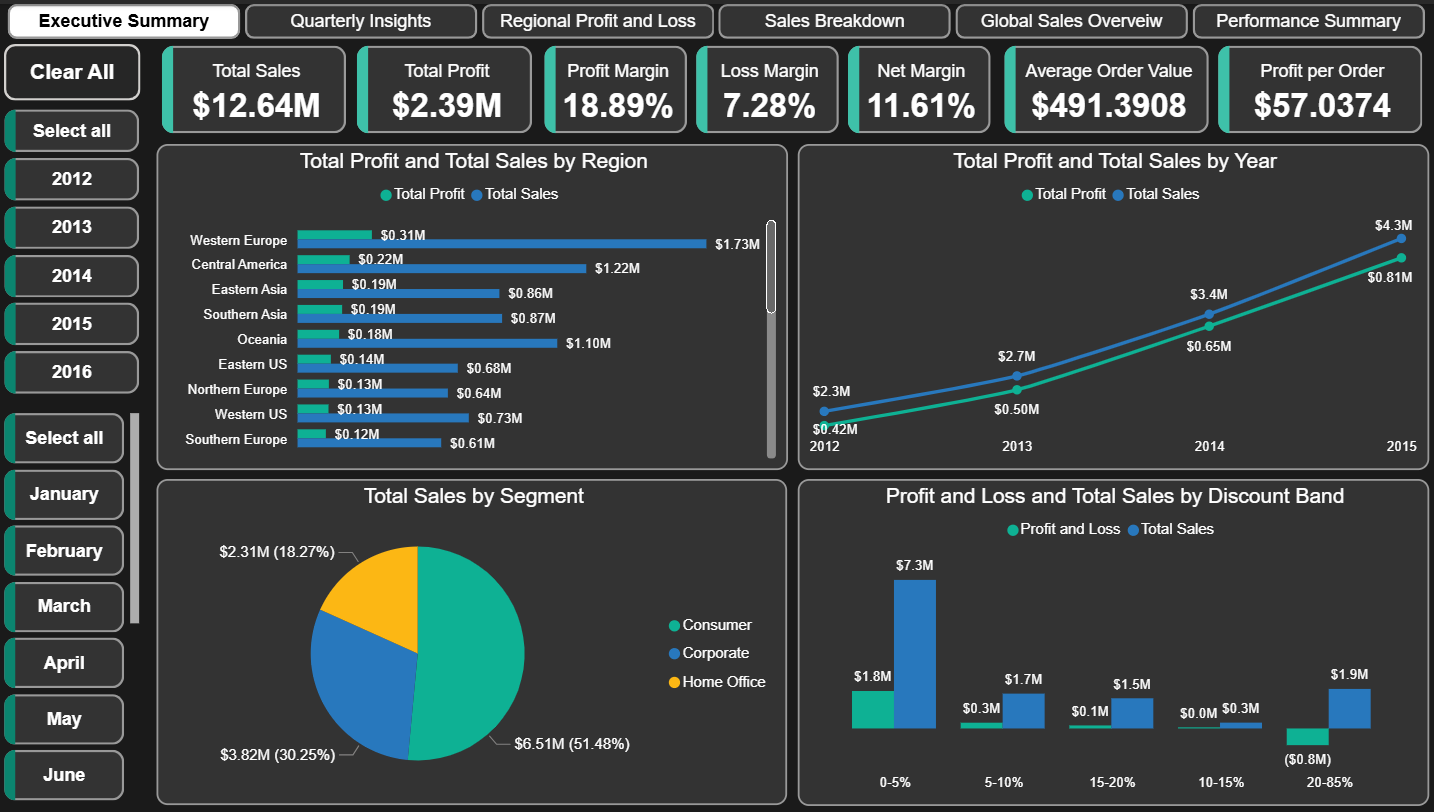

The dashboard page shown, as its layout file describes it:
{"tool":"powerbi","page":{"name":"Executive Summary","canvas":[1280,720],"ordinal":0},"visuals":[{"type":"pageNavigator","box":[8.1,0,1263.8,31.9],"z":0},{"type":"actionButton","box":[4.9,35.6,121.5,50.3],"z":1000},{"type":"advancedSlicerVisual","fields":{"Values":["Dim_Date.Year"]},"box":[0,89.6,130.1,263.8],"z":4000},{"type":"advancedSlicerVisual","fields":{"Values":["Dim_Date.Date.Variation.Date Hierarchy.Month"]},"box":[0,359.5,130.1,357.1],"z":5000},{"type":"cardVisual","fields":{"Data":["_Measures.Total Sales"]},"box":[139.9,31.9,174.2,88.3],"z":5500},{"type":"cardVisual","fields":{"Data":["_Measures.Total Profit"]},"box":[314.1,31.9,166.9,88.3],"z":6000},{"type":"cardVisual","fields":{"Data":["_Measures.Profit Margin","_Measures.Loss Margin","_Measures.Net Margin"]},"box":[481,31.9,409.8,88.3],"z":6500},{"type":"cardVisual","fields":{"Data":["_Measures.Average Order Value","_Measures.Profit per Order"]},"box":[890.8,31.9,382.8,88.3],"z":7000},{"type":"clusteredBarChart","fields":{"Y":["_Measures.Total Profit","_Measures.Total Sales"],"Category":["Dim_Customers.Region","Dim_Customers.Country","Dim_Customers.City"]},"box":[139.9,124.1,562,290.8],"z":8000},{"type":"lineChart","fields":{"Y":["_Measures.Total Profit"],"Y2":["_Measures.Total Sales"],"Category":["Dim_Date.Date.Variation.Date Hierarchy.Year","Dim_Date.Date.Variation.Date Hierarchy.Month"]},"box":[711.7,124.1,562,290.8],"z":9000},{"type":"pieChart","fields":{"Y":["_Measures.Total Sales"],"Category":["Dim_Customers.Segment"]},"box":[139.9,423.3,562,290.8],"z":10000},{"type":"clusteredColumnChart","fields":{"Y":["_Measures.Profit and Loss","_Measures.Total Sales"],"Category":["Fact_Orders.Dicount Band"]},"box":[711.7,423,562,291],"z":11000}]}

Visuals, with their boxes in screenshot pixels (x1, y1, x2, y2), scaled from the page's 1280x720 canvas onto the 1434x812 screenshot:
pageNavigator: x1=9, y1=0, x2=1425, y2=36
actionButton: x1=5, y1=40, x2=142, y2=97
advancedSlicerVisual - Dim_Date.Year: x1=0, y1=101, x2=146, y2=399
advancedSlicerVisual - Dim_Date.Date.Variation.Date Hierarchy.Month: x1=0, y1=405, x2=146, y2=808
cardVisual - _Measures.Total Sales: x1=157, y1=36, x2=352, y2=136
cardVisual - _Measures.Total Profit: x1=352, y1=36, x2=539, y2=136
cardVisual - _Measures.Profit Margin x _Measures.Loss Margin: x1=539, y1=36, x2=998, y2=136
cardVisual - _Measures.Average Order Value x _Measures.Profit per Order: x1=998, y1=36, x2=1427, y2=136
clusteredBarChart - _Measures.Total Profit x _Measures.Total Sales: x1=157, y1=140, x2=786, y2=468
lineChart - _Measures.Total Profit x _Measures.Total Sales: x1=797, y1=140, x2=1427, y2=468
pieChart - _Measures.Total Sales x Dim_Customers.Segment: x1=157, y1=477, x2=786, y2=805
clusteredColumnChart - _Measures.Profit and Loss x _Measures.Total Sales: x1=797, y1=477, x2=1427, y2=805
